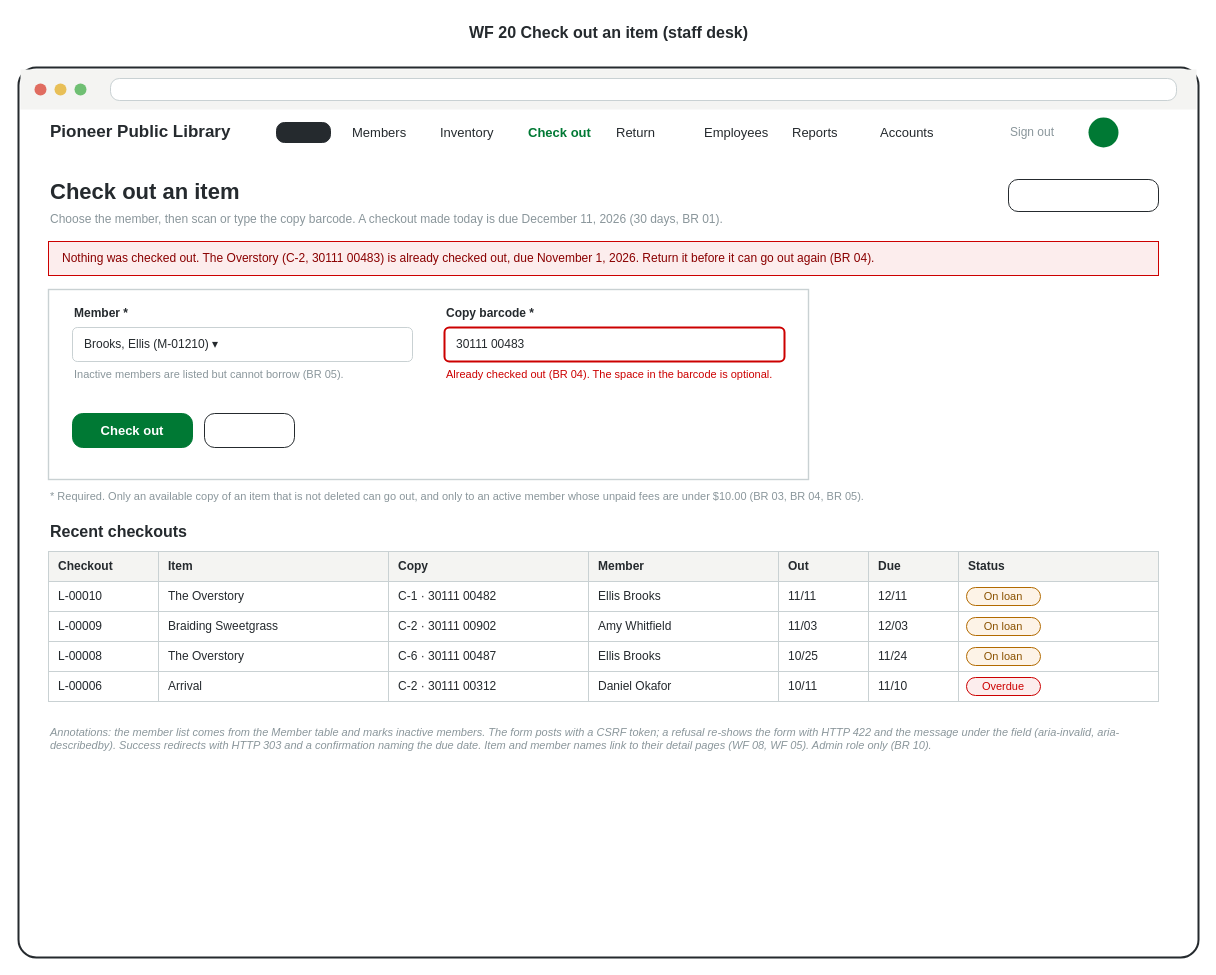
Image size: 1216x975. Some labels were removed from this diagram. Here are the shapes that lost their labels. From the top down, the centre of each, then its label:
At point (643, 89): "pioneerlibrary.org/circulation/checkout.php".
At point (303, 132): "Admin".
At point (1103, 132): "BS".
At point (1083, 195): "Record a return".
At point (249, 430): "Clear".
